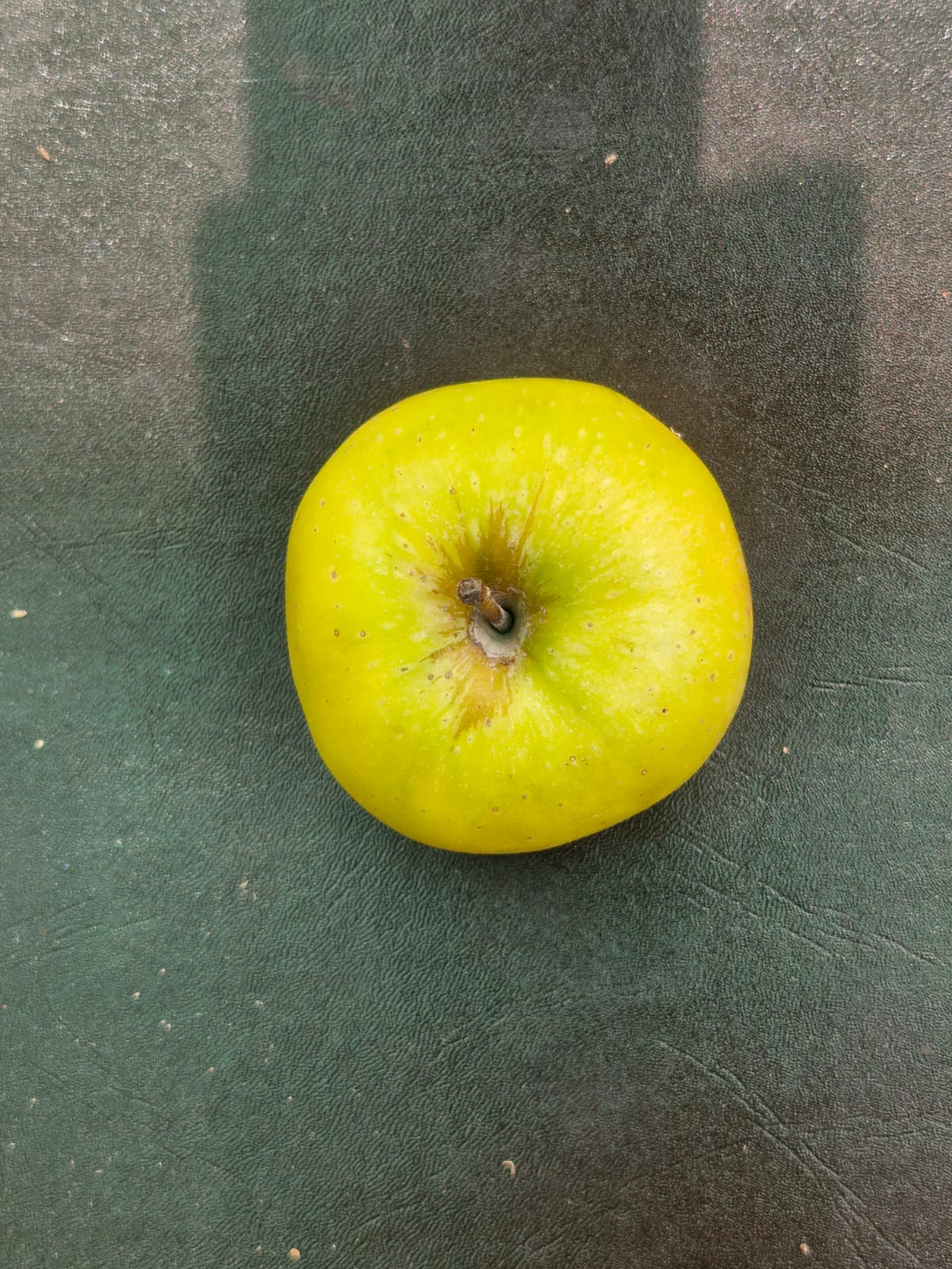apple: (108, 42, 766, 1082)
